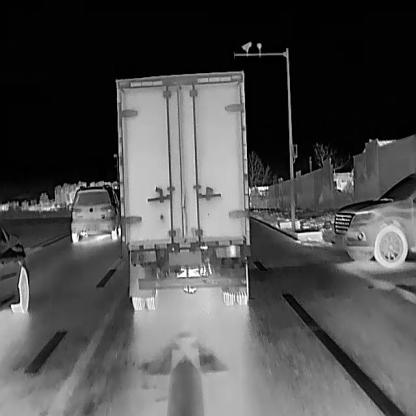car: (333, 170, 415, 270), (66, 182, 122, 242), (0, 223, 29, 315)
truck: (114, 67, 250, 312)
